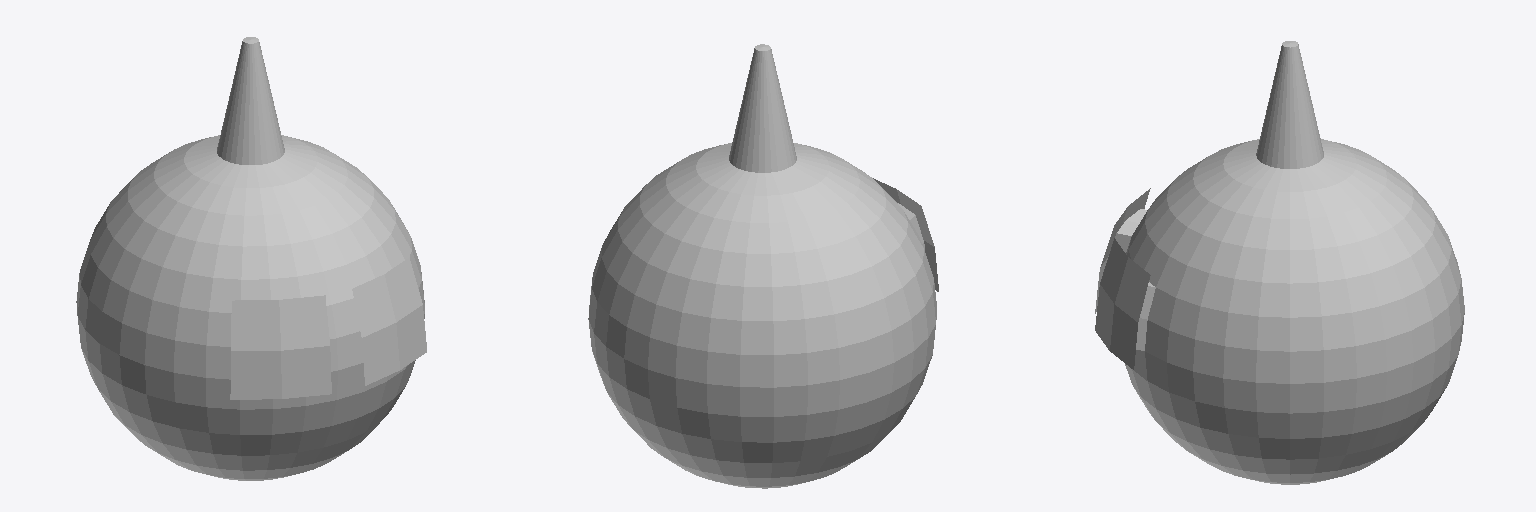
Rendered from assistant.obj.
3 renders of one model, left to right at view 1: azimuth 30°, elevation 25°; view 2: azimuth 150°, elevation 25°; view 3: azimuth 270°, elevation 25°, orthographic.
Parts seen in each view (by area): view 1: Sphere, Sphere.001; view 2: Sphere, Sphere.001; view 3: Sphere, Sphere.001.
Part boxes in pixels (x1,y1,x2,y2): Sphere: (76,37,424,480); Sphere.001: (230,257,426,399); Sphere: (588,44,936,488); Sphere.001: (873,178,938,291); Sphere: (1115,41,1464,484); Sphere.001: (1095,188,1150,369).
Bounding box in the file's own units: 0.6 × 0.8053 × 0.6351.